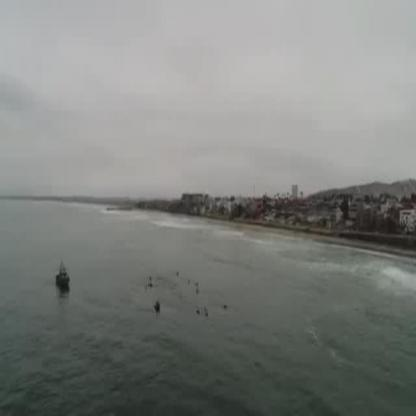Boat: (51, 261, 73, 300)
